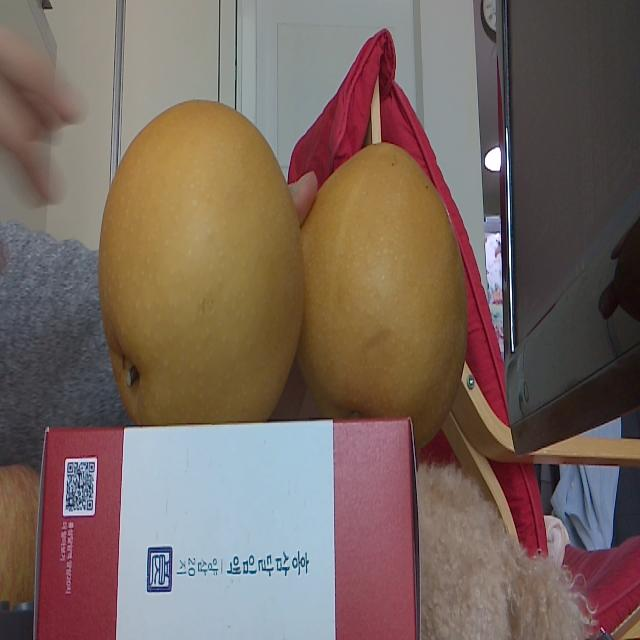pear: (99, 99, 302, 424), (300, 139, 470, 453)
